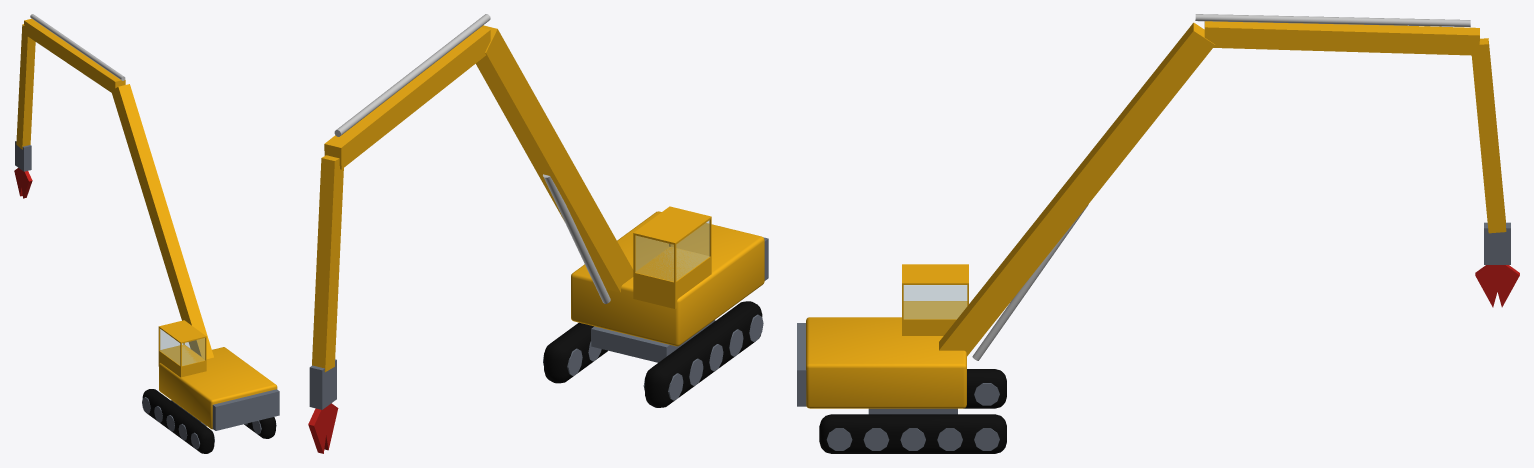
The model's file is plant.excavator.high_reach.glb.
The picture shows the model from 3 angles, left to right: view 1: azimuth 30°, elevation 25°; view 2: azimuth 150°, elevation 25°; view 3: azimuth 270°, elevation 25°; orthographic projection. The views are drawn at different scales.
Parts seen in each view (by area): view 1: boom__plant_yellow, house__plant_yellow, undercarriage__rubber, house__steel_painted, house__glass, undercarriage__steel_painted, boom__steel_stainless, tool__steel_painted, tool__hazard_red; view 2: boom__plant_yellow, house__plant_yellow, undercarriage__rubber, undercarriage__steel_painted, boom__steel_stainless, house__glass, tool__steel_painted, tool__hazard_red; view 3: boom__plant_yellow, house__plant_yellow, undercarriage__rubber, undercarriage__steel_painted, boom__steel_stainless, house__glass, tool__hazard_red, tool__steel_painted, house__steel_painted.
Part boxes in pixels (bbox=[...]): boom__plant_yellow: bbox=[16, 18, 213, 358]; house__plant_yellow: bbox=[158, 320, 277, 429]; undercarriage__rubber: bbox=[142, 389, 275, 453]; house__steel_painted: bbox=[212, 389, 279, 430]; house__glass: bbox=[160, 329, 204, 365]; undercarriage__steel_painted: bbox=[142, 397, 276, 449]; boom__steel_stainless: bbox=[30, 14, 125, 80]; tool__steel_painted: bbox=[15, 141, 31, 171]; tool__hazard_red: bbox=[14, 168, 32, 198]; boom__plant_yellow: bbox=[312, 25, 633, 372]; house__plant_yellow: bbox=[571, 206, 764, 346]; undercarriage__rubber: bbox=[544, 301, 762, 407]; undercarriage__steel_painted: bbox=[543, 314, 763, 400]; boom__steel_stainless: bbox=[334, 14, 610, 303]; house__glass: bbox=[635, 220, 709, 281]; tool__steel_painted: bbox=[309, 359, 336, 409]; tool__hazard_red: bbox=[308, 403, 338, 453]; boom__plant_yellow: bbox=[939, 21, 1506, 356]; house__plant_yellow: bbox=[806, 264, 968, 408]; undercarriage__rubber: bbox=[819, 369, 1006, 453]; undercarriage__steel_painted: bbox=[826, 383, 999, 450]; boom__steel_stainless: bbox=[972, 14, 1470, 360]; house__glass: bbox=[904, 285, 966, 318]; tool__hazard_red: bbox=[1475, 265, 1519, 307]; tool__steel_painted: bbox=[1484, 222, 1510, 264]; house__steel_painted: bbox=[797, 323, 806, 406].
Bounding box in the file's own units: 4.07 × 14.04 × 21.84.
